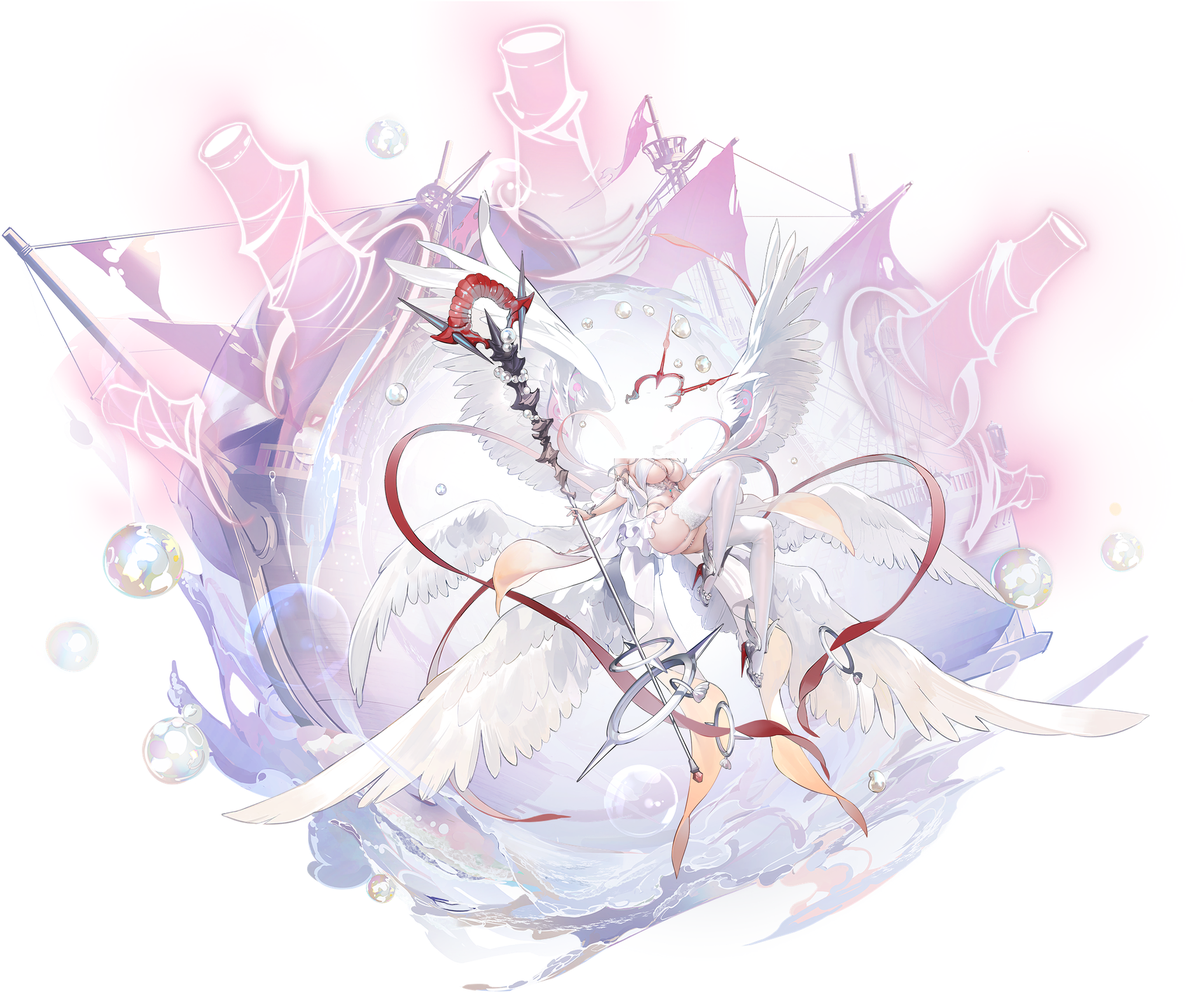person: (197, 67, 1173, 981)
